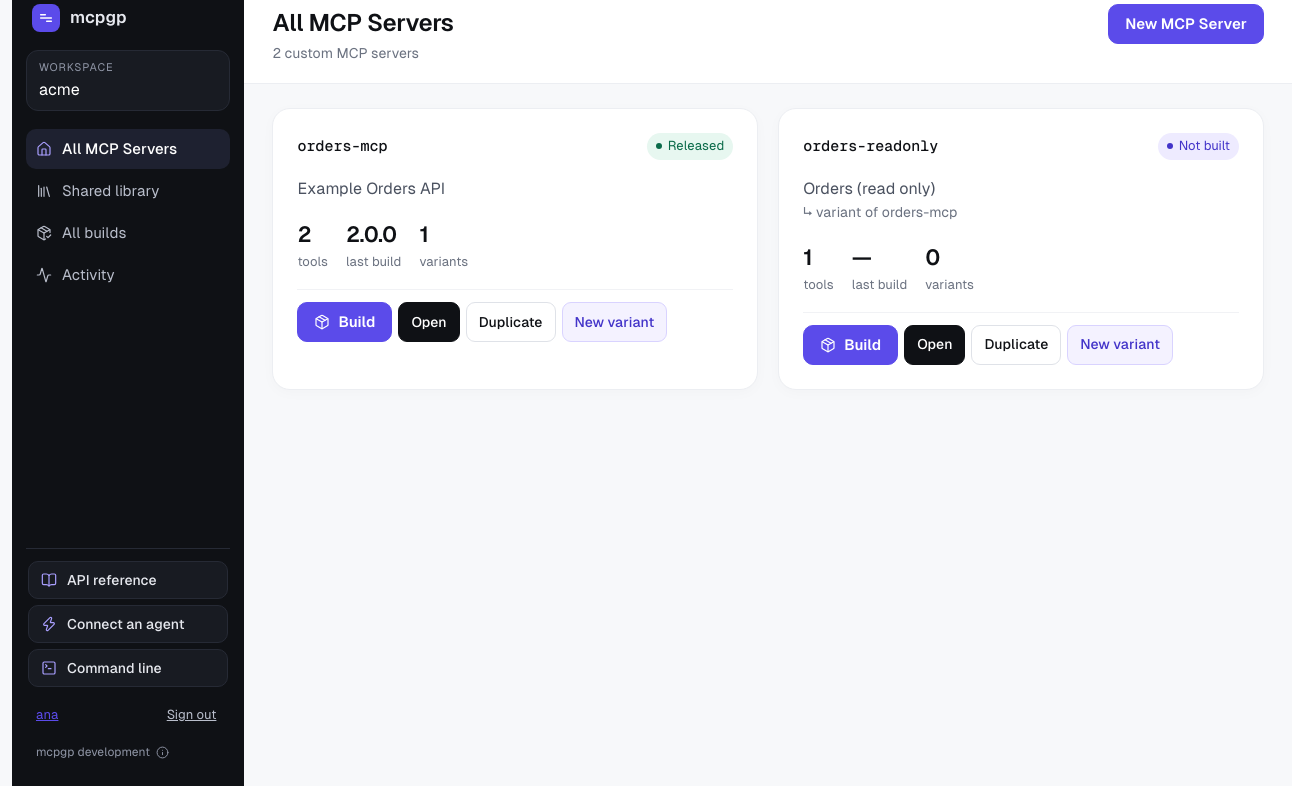
Test: all servers › makes a variant that follows the original, and opens it
The image size is (1292, 786).
Click the button with class "btn-soft" below "2.0.0" at (614, 322), box [562, 302, 667, 342]
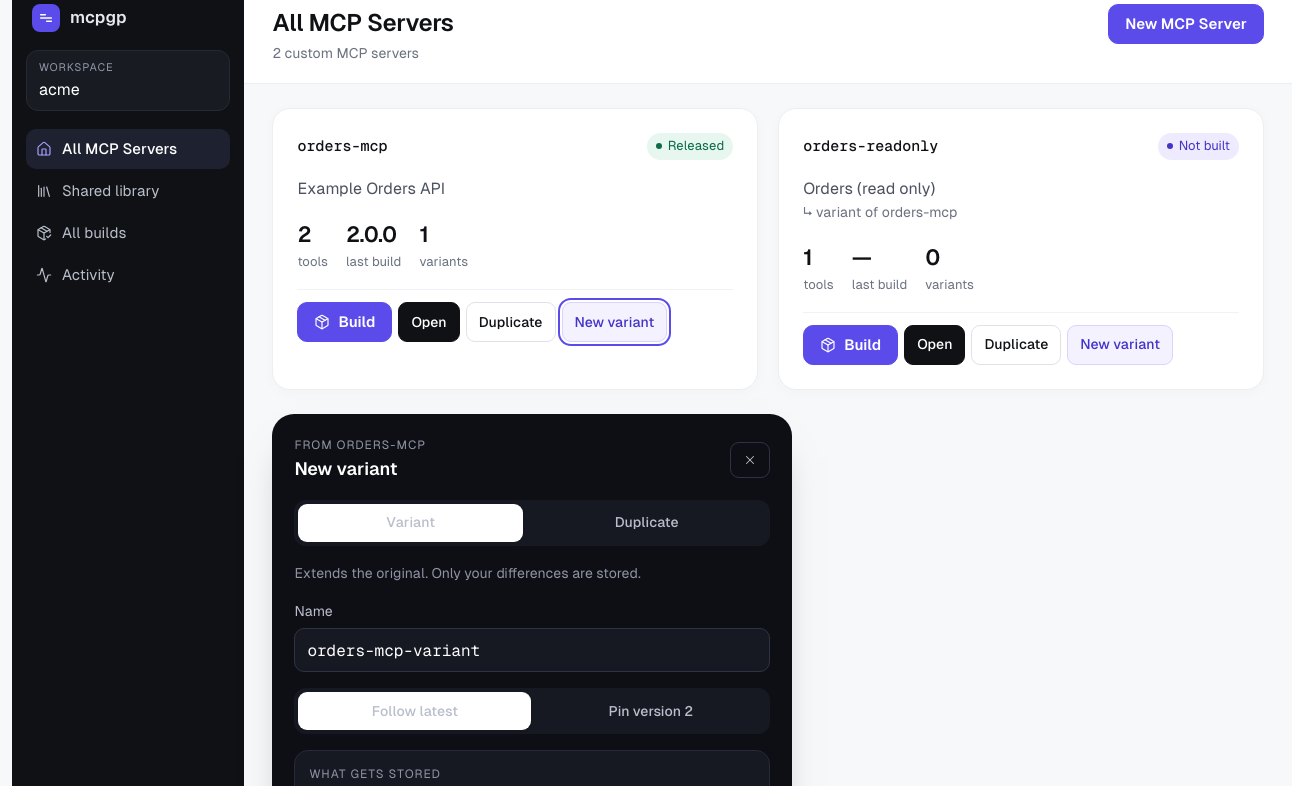
Replace the text in the field labelled "Name" with "Orders Lite" at (532, 650), box [294, 628, 770, 672]
(page scrolled)
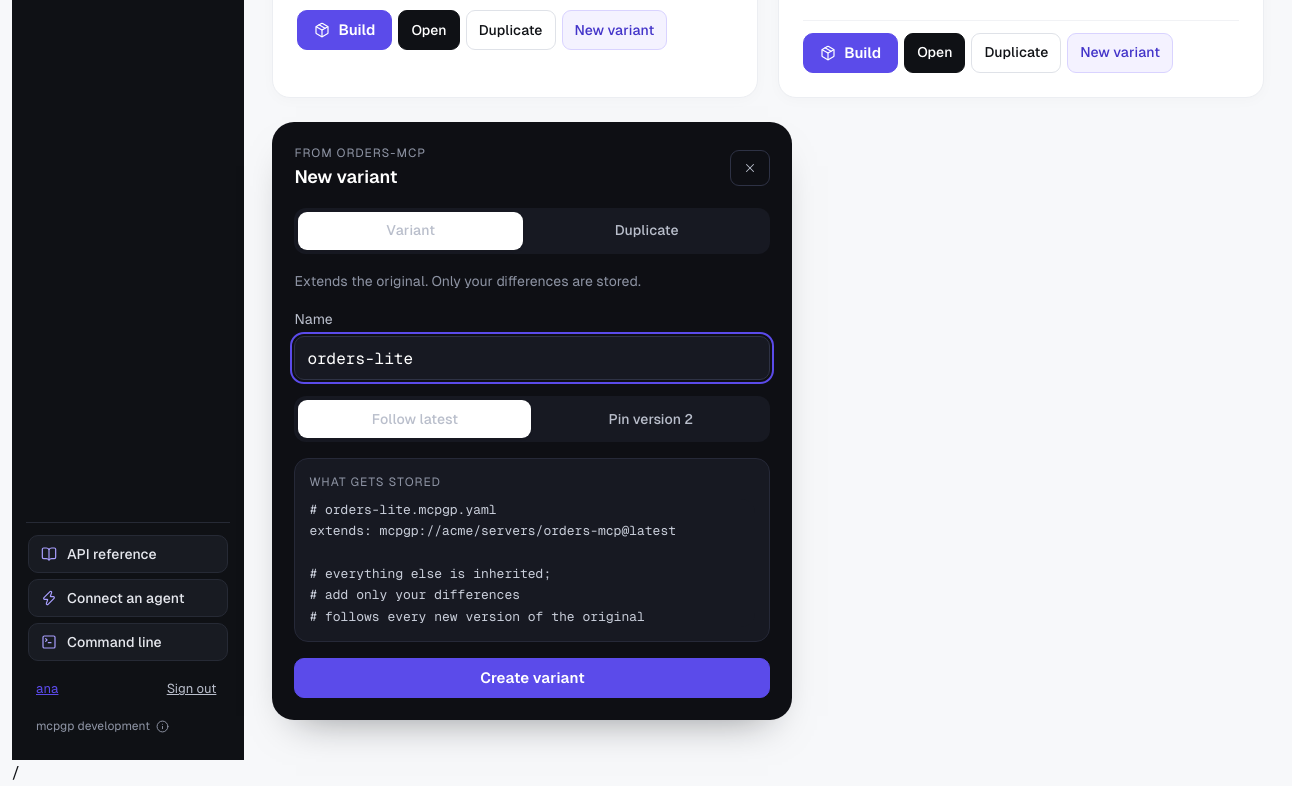
Click the button "Create variant" at (532, 678), box [294, 658, 770, 698]
(page scrolled)
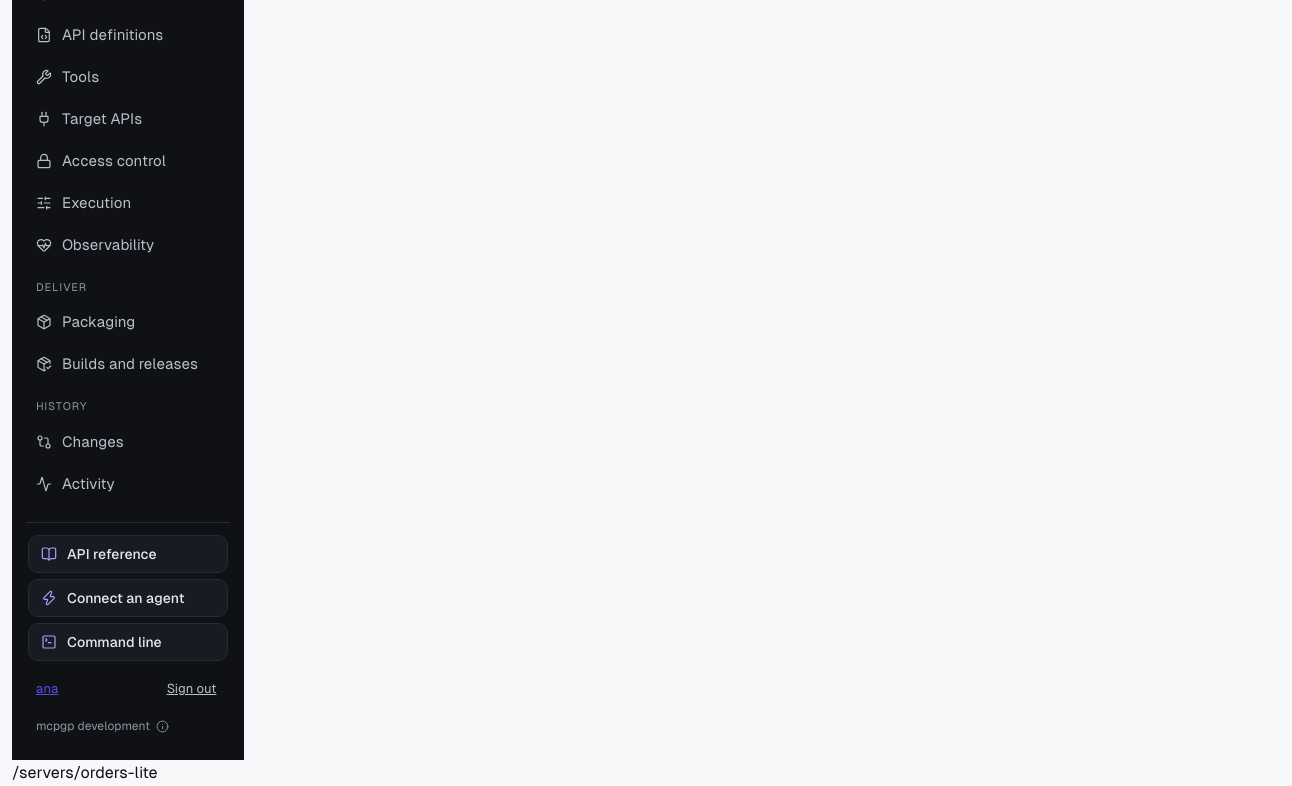
Check: the text with test id "where" reads "/servers/orders-lite", box [12, 763, 158, 782]
